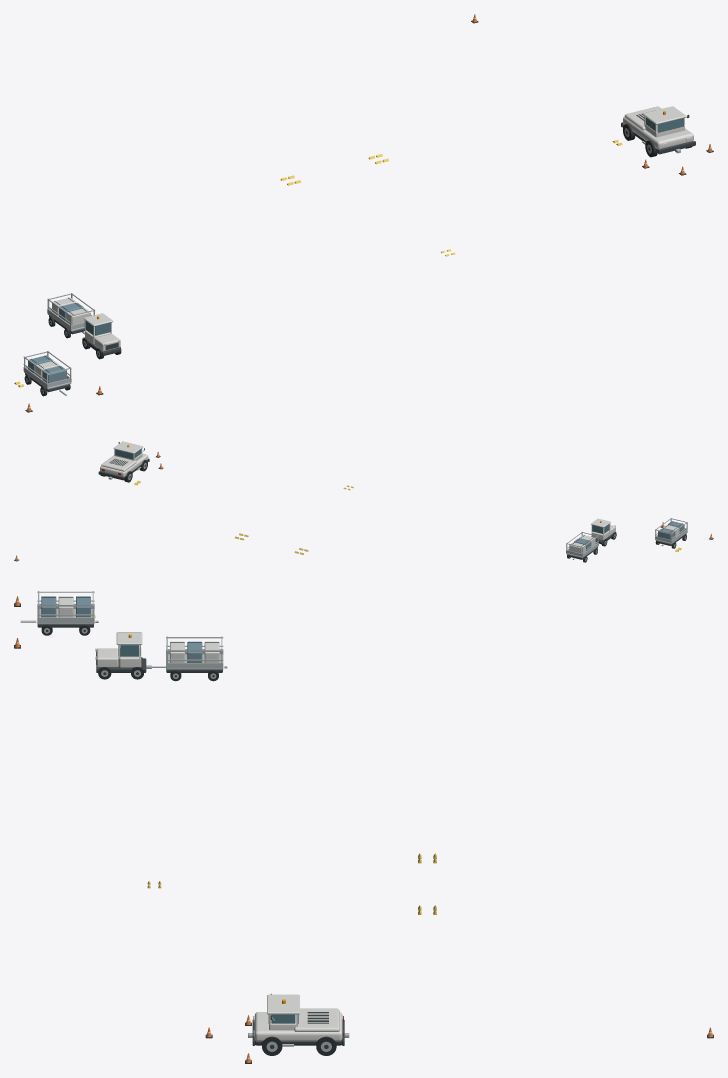
The model's file is vehicles.glb.
The picture shows the model from 3 angles, top to bottom: view 1: azimuth 30°, elevation 25°; view 2: azimuth 150°, elevation 25°; view 3: azimuth 270°, elevation 25°; orthographic projection. The views are drawn at different scales.
Visible parts, largest first — view 1: PushbackTractor_ROOT_GSE_white_paint_batch, BaggageTractor_ROOT_GSE_white_paint_batch, BaggageCart_2_ROOT_GSE_galvanised_steel_batch; view 2: PushbackTractor_ROOT_GSE_white_paint_batch, BaggageCart_1_ROOT_GSE_galvanised_steel_batch, BaggageCart_2_ROOT_GSE_galvanised_steel_batch, BaggageTractor_ROOT_GSE_white_paint_batch, BaggageCart_1_ROOT_GSE_white_paint_batch, BaggageCart_2_ROOT_GSE_muted_blue_batch, PushbackTractor_ROOT_GSE_chassis_batch; view 3: PushbackTractor_ROOT_GSE_white_paint_batch, BaggageTractor_ROOT_GSE_white_paint_batch, BaggageCart_2_ROOT_GSE_galvanised_steel_batch, BaggageCart_1_ROOT_GSE_galvanised_steel_batch.
Boxes of the visible parts, <box> form: PushbackTractor_ROOT_GSE_white_paint_batch: <box>623,106,693,149</box>; BaggageTractor_ROOT_GSE_white_paint_batch: <box>83,313,120,351</box>; BaggageCart_2_ROOT_GSE_galvanised_steel_batch: <box>23,351,71,395</box>; PushbackTractor_ROOT_GSE_white_paint_batch: <box>100,441,148,477</box>; BaggageCart_1_ROOT_GSE_galvanised_steel_batch: <box>566,531,598,559</box>; BaggageCart_2_ROOT_GSE_galvanised_steel_batch: <box>655,518,687,546</box>; BaggageTractor_ROOT_GSE_white_paint_batch: <box>591,518,615,540</box>; BaggageCart_1_ROOT_GSE_white_paint_batch: <box>569,535,595,553</box>; BaggageCart_2_ROOT_GSE_muted_blue_batch: <box>658,521,684,539</box>; PushbackTractor_ROOT_GSE_chassis_batch: <box>98,442,149,480</box>; PushbackTractor_ROOT_GSE_white_paint_batch: <box>253,994,342,1041</box>; BaggageTractor_ROOT_GSE_white_paint_batch: <box>95,632,142,667</box>; BaggageCart_2_ROOT_GSE_galvanised_steel_batch: <box>20,591,98,624</box>; BaggageCart_1_ROOT_GSE_galvanised_steel_batch: <box>166,636,227,669</box>.
Size of the model in its own units: 60.8 by 2.73 by 39.1.
